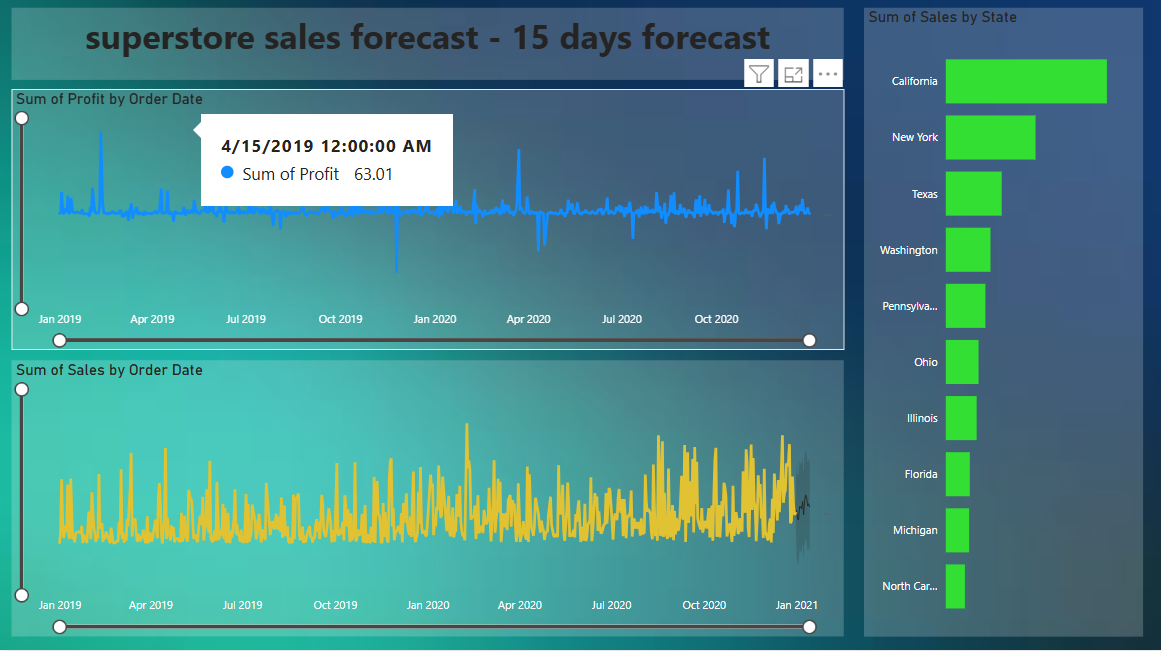

The page's visual inventory and layout, read from the dashboard file:
{"tool":"powerbi","page":{"name":"Page 2","canvas":[1280,720],"ordinal":1},"visuals":[{"type":"lineChart","fields":{"Y":["Sum(SuperStore_Sales_Dataset.Sales)"],"Category":["SuperStore_Sales_Dataset.Order Date"]},"box":[13.7,402.1,913.9,303.3],"z":0},{"type":"lineChart","fields":{"Category":["SuperStore_Sales_Dataset.Order Date"],"Y":["Sum(SuperStore_Sales_Dataset.Profit)"]},"box":[13.7,116.6,913.9,274.4],"z":1000},{"type":"barChart","fields":{"Category":["SuperStore_Sales_Dataset.State"],"Y":["Sum(SuperStore_Sales_Dataset.Sales)"]},"box":[949.6,15.1,306,690.2],"z":2000},{"type":"textbox","box":[13.7,15.1,913.9,79.6],"z":2001}]}

Visuals, with their boxes in screenshot pixels (x1, y1, x2, y2), scaled from the page's 1280x720 canvas onto the 1161x651 screenshot:
lineChart - Sum(SuperStore_Sales_Dataset.Sales) x SuperStore_Sales_Dataset.Order Date: <box>12,364,841,638</box>
lineChart - SuperStore_Sales_Dataset.Order Date x Sum(SuperStore_Sales_Dataset.Profit): <box>12,105,841,354</box>
barChart - SuperStore_Sales_Dataset.State x Sum(SuperStore_Sales_Dataset.Sales): <box>861,14,1139,638</box>
textbox: <box>12,14,841,86</box>
